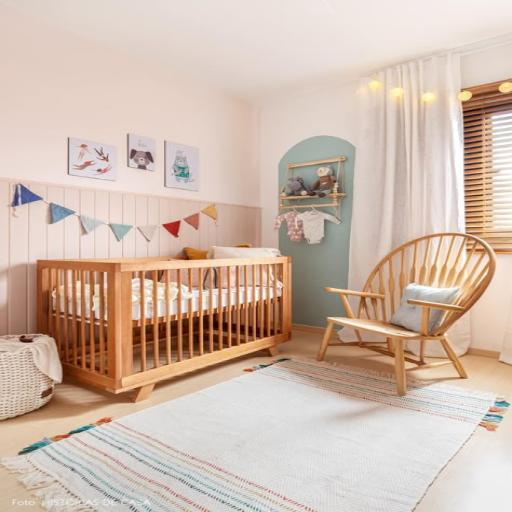crib: (37, 257, 291, 401)
